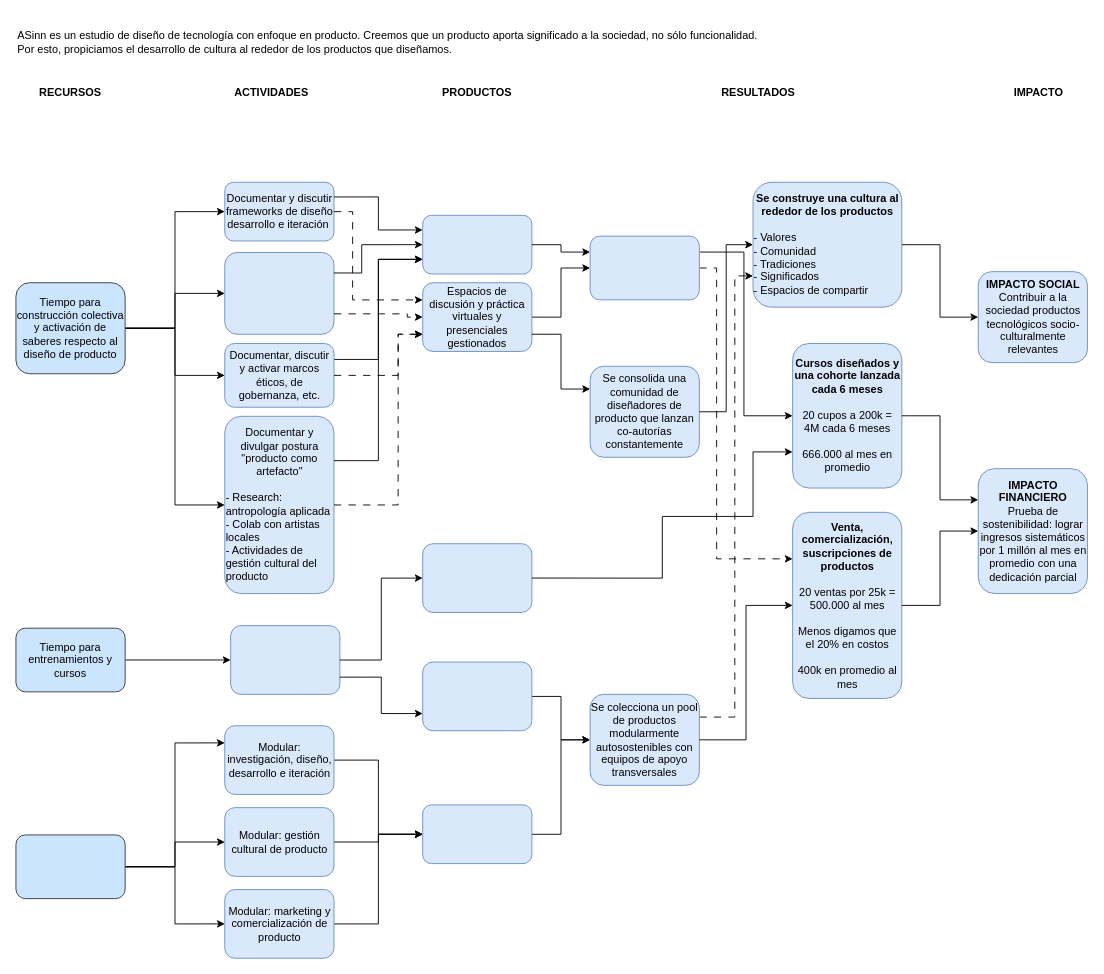
The diagram is 1104 pixels wide and 974 high, and some of its shapes have lost their labels. Each missing label, with the centre of its shape:
"Cursos diseñados, ofrecidos y comercializados" belongs at (477,577).
"Documentación del know how" belongs at (477,244).
"Documentar y discutir frameworks de impacto basado en mercado y social impact" belongs at (279,293).
"Grandes Hackatones ASinn" belongs at (477,696).
"Pedagogía: entrenamiento de competencias en el diseño de producto" belongs at (285,659).
"Productos y operación asociada" belongs at (477,834).
"Se construye colectivamente una cultura del ASinn Way" belongs at (644,267).
"Tiempo para diseño y desarrollo de producto [Stand By]" belongs at (70,866).
